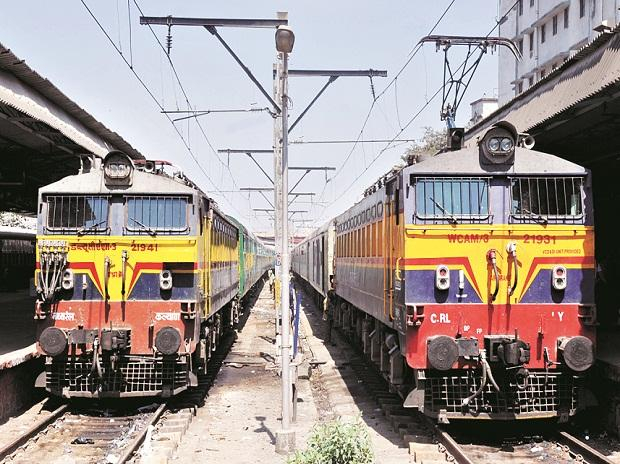train: (290, 117, 598, 438), (35, 155, 270, 408)
